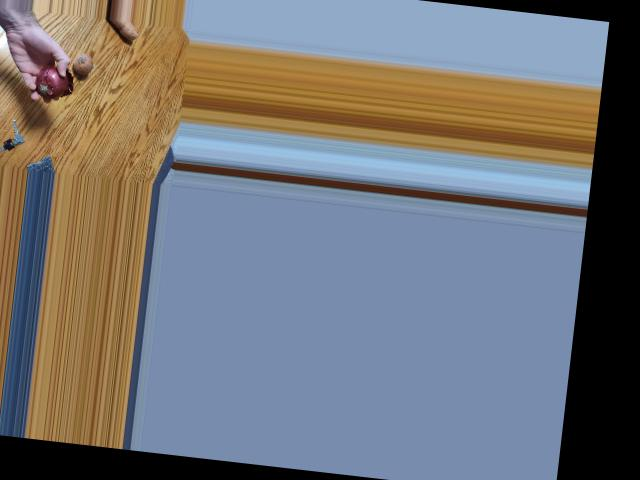onion: (71, 49, 97, 74)
